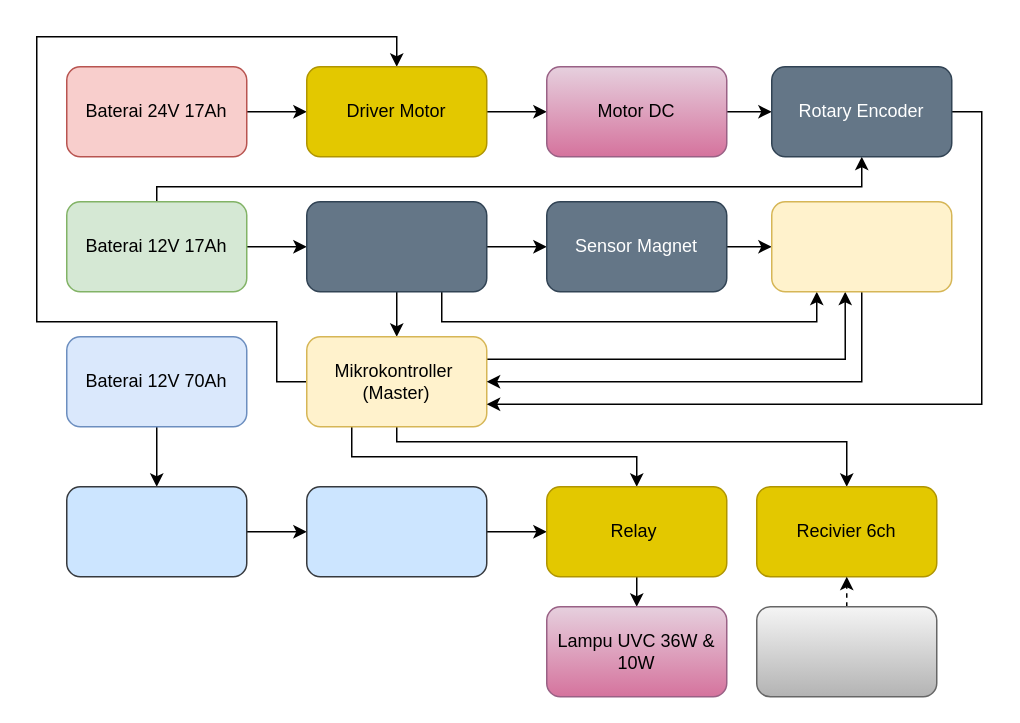
This 1020x723 diagram has some shape labels left out. The box of each missing label's shape, as (x1, y1, x2, y2) in pixels:
Converter DC - DC 12V - 5V 3A: (305, 200, 487, 292)
Inverter 12V 900VA: (65, 485, 247, 577)
Mikrokontroller (Slave): (770, 200, 952, 292)
Output 220VA: (305, 485, 487, 577)
Remote FS-I6S: (755, 605, 937, 697)
